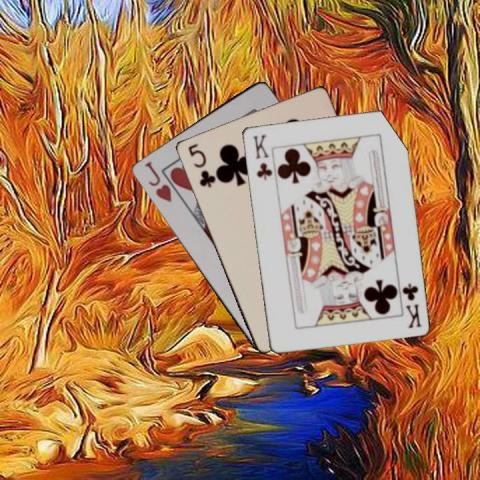5c: (185, 140, 215, 189)
Jh: (142, 158, 174, 204)
Kc: (398, 280, 422, 329), (249, 132, 272, 182)
